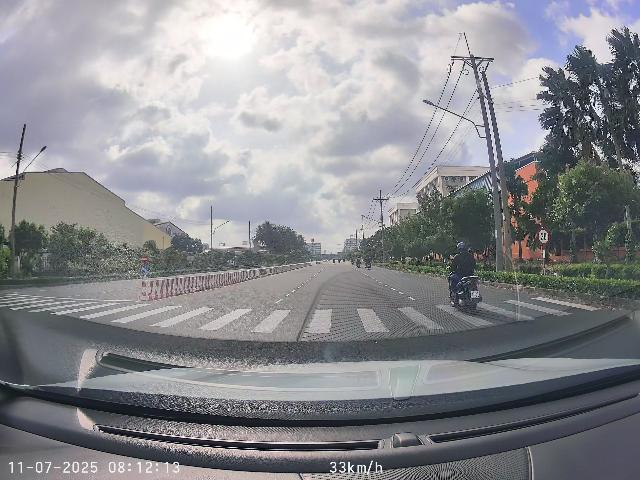127-toc-do-toi-da-30: (537, 228, 550, 245)
